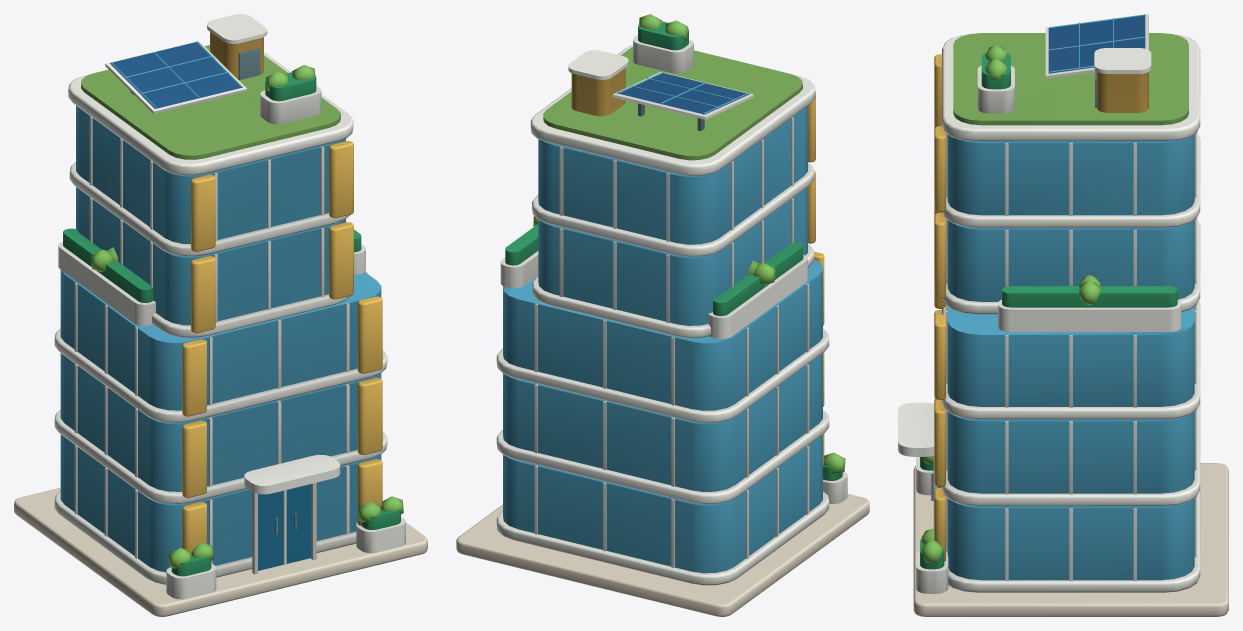
The model's file is townhouse-cream-low.glb.
The picture shows the model from 3 angles, left to right: view 1: azimuth 30°, elevation 25°; view 2: azimuth 150°, elevation 25°; view 3: azimuth 270°, elevation 25°; orthographic projection. The views are drawn at different scales.
Parts seen in each view (by area): view 1: continuous blue glazing, floor rim, coloured facade fin, paved building footprint, green roof, photovoltaic cells, planter foliage, recessed entrance, shrub tip, roof access hatch; view 2: continuous blue glazing, floor rim, paved building footprint, green roof, planter foliage, coloured facade fin, photovoltaic cells, shrub tip; view 3: continuous blue glazing, floor rim, green roof, paved building footprint, coloured facade fin, planter foliage, photovoltaic cells, shrub tip.
Part boxes in pixels (box(x1,y1,x2,y2)): continuous blue glazing: box(60, 41, 381, 572); floor rim: box(54, 14, 405, 599); coloured facade fin: box(182, 32, 382, 553); paved building footprint: box(14, 487, 427, 616); green roof: box(81, 45, 340, 159); photovoltaic cells: box(110, 41, 242, 108); planter foliage: box(63, 72, 400, 576); recessed entrance: box(258, 484, 311, 570); shrub tip: box(91, 65, 403, 568); roof access hatch: box(131, 48, 296, 534); continuous blue glazing: box(503, 72, 822, 573); floor rim: box(496, 35, 847, 585); paved building footprint: box(456, 494, 869, 616); green roof: box(543, 47, 802, 160); planter foliage: box(505, 21, 842, 480); coloured facade fin: box(571, 68, 824, 464); photovoltaic cells: box(617, 73, 749, 114); shrub tip: box(533, 14, 845, 473); continuous blue glazing: box(947, 14, 1194, 580); floor rim: box(898, 14, 1200, 593); green roof: box(953, 33, 1188, 125); paved building footprint: box(913, 463, 1228, 616); coloured facade fin: box(934, 54, 1148, 561); planter foliage: box(920, 53, 1177, 569); photovoltaic cells: box(1048, 14, 1145, 73); shrub tip: box(921, 45, 1100, 562).
Size of the model in its own units: 2.72 by 4.56 by 2.66.
